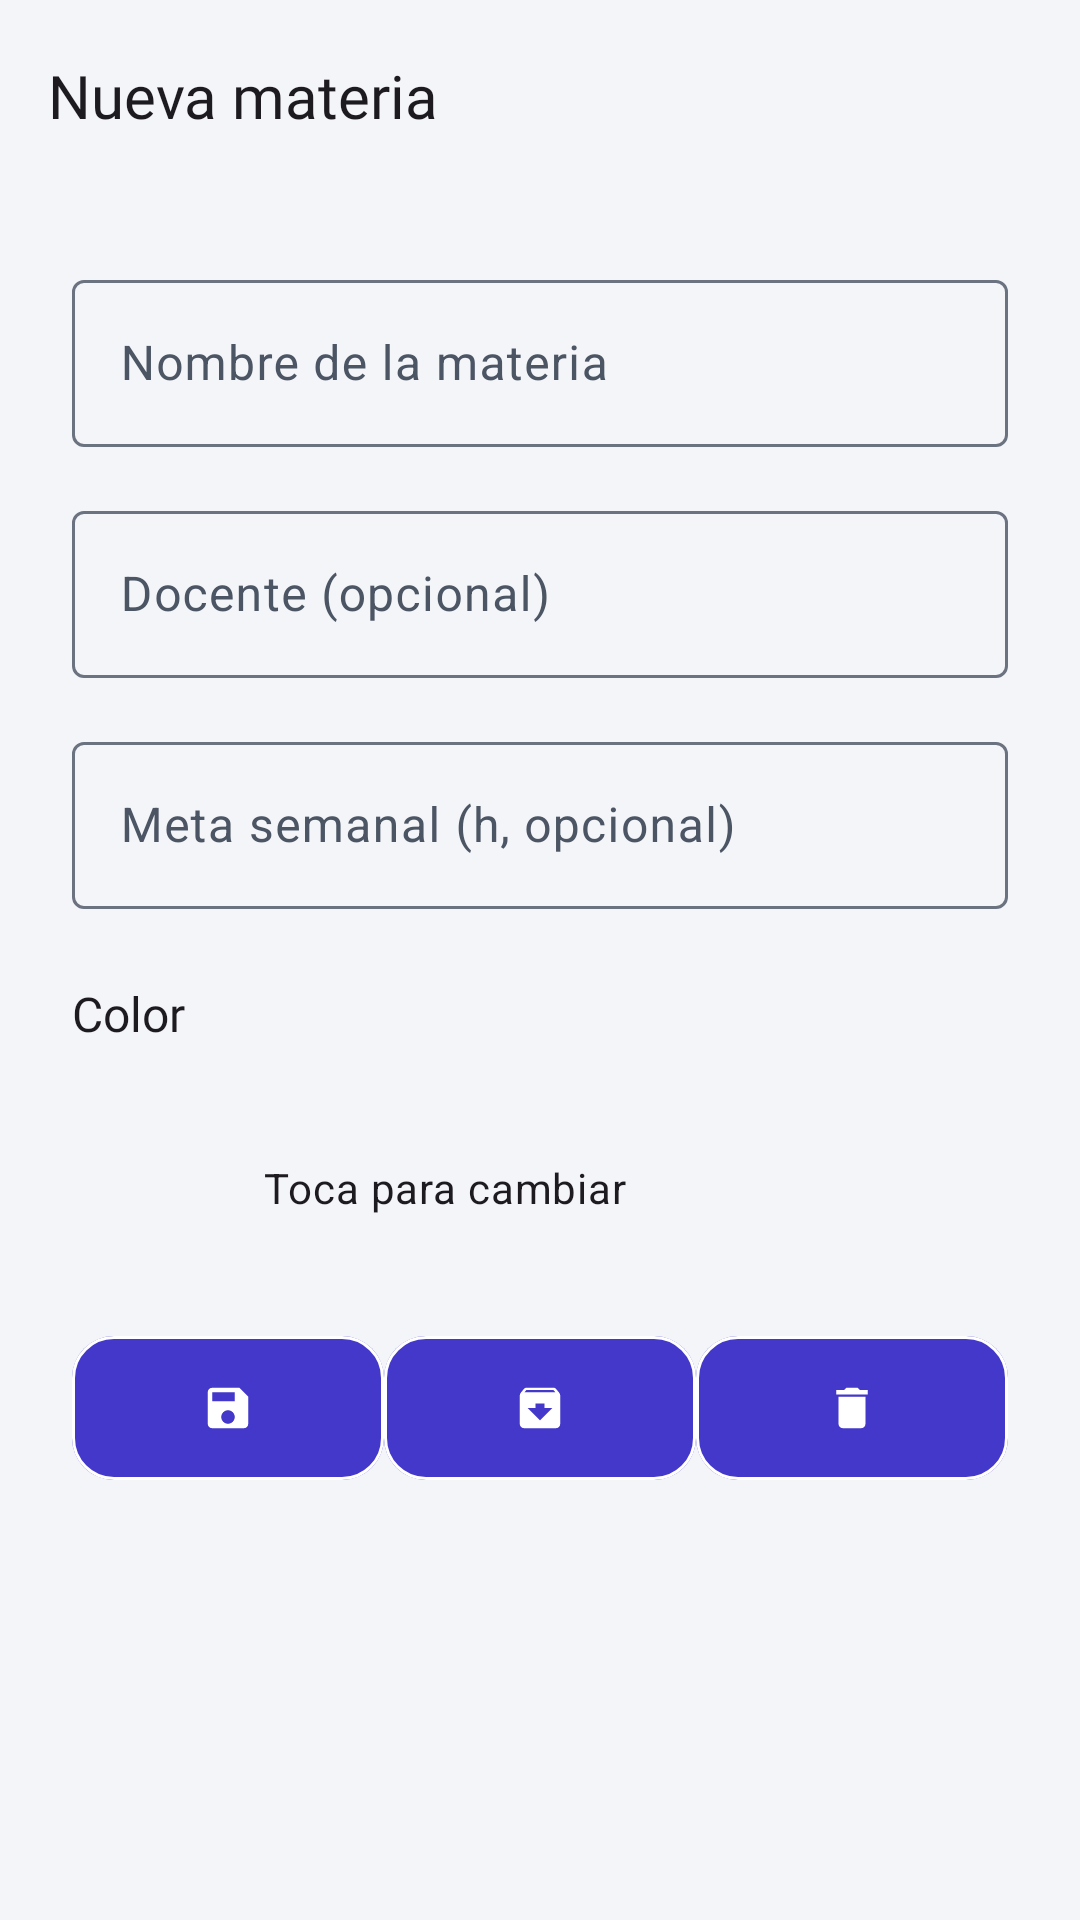

Locate icon controls on the screen. Image size 1080×1920, boxes as (x1, y1, x2, y2).
Archivar: (384, 1336, 696, 1480)
Eliminar: (696, 1336, 1008, 1480)
Guardar: (72, 1336, 384, 1480)
